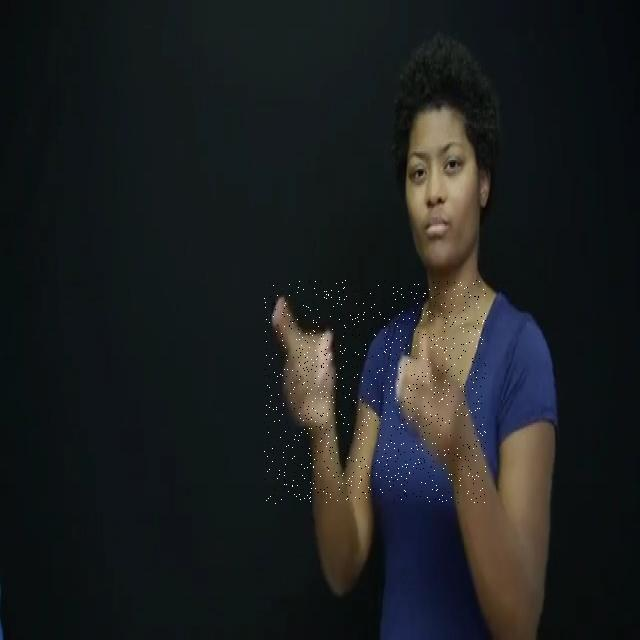sweet: (264, 280, 486, 504)
